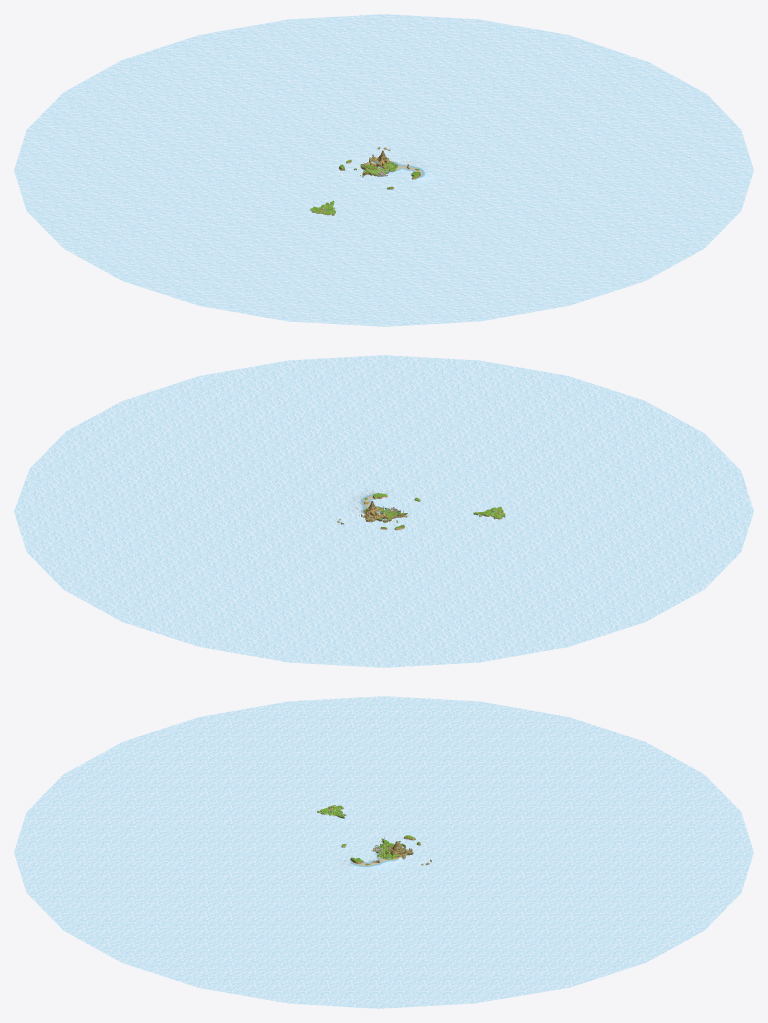
The model's file is map.glb.
The picture shows the model from 3 angles, top to bottom: view 1: azimuth 30°, elevation 25°; view 2: azimuth 150°, elevation 25°; view 3: azimuth 270°, elevation 25°; orthographic projection.
Visible parts, largest first — view 1: skfb_offset; view 2: skfb_offset; view 3: skfb_offset.
Boxes of the visible parts, bbox=[...] form: skfb_offset: bbox=[14, 14, 753, 326]; skfb_offset: bbox=[14, 355, 753, 667]; skfb_offset: bbox=[14, 696, 753, 1008].
Bounding box in the file's own units: 1414 × 30.14 × 1414.
Materials: 45 (45 with a texture image).
